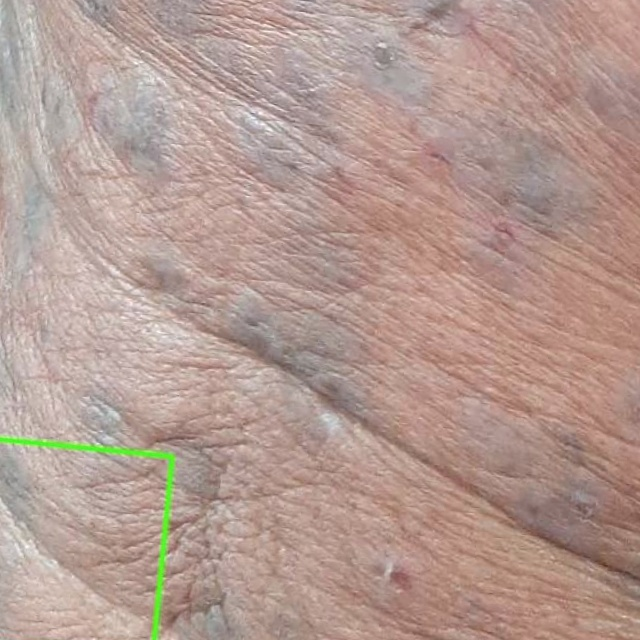Contact Dermatitis: (0, 439, 172, 639)
